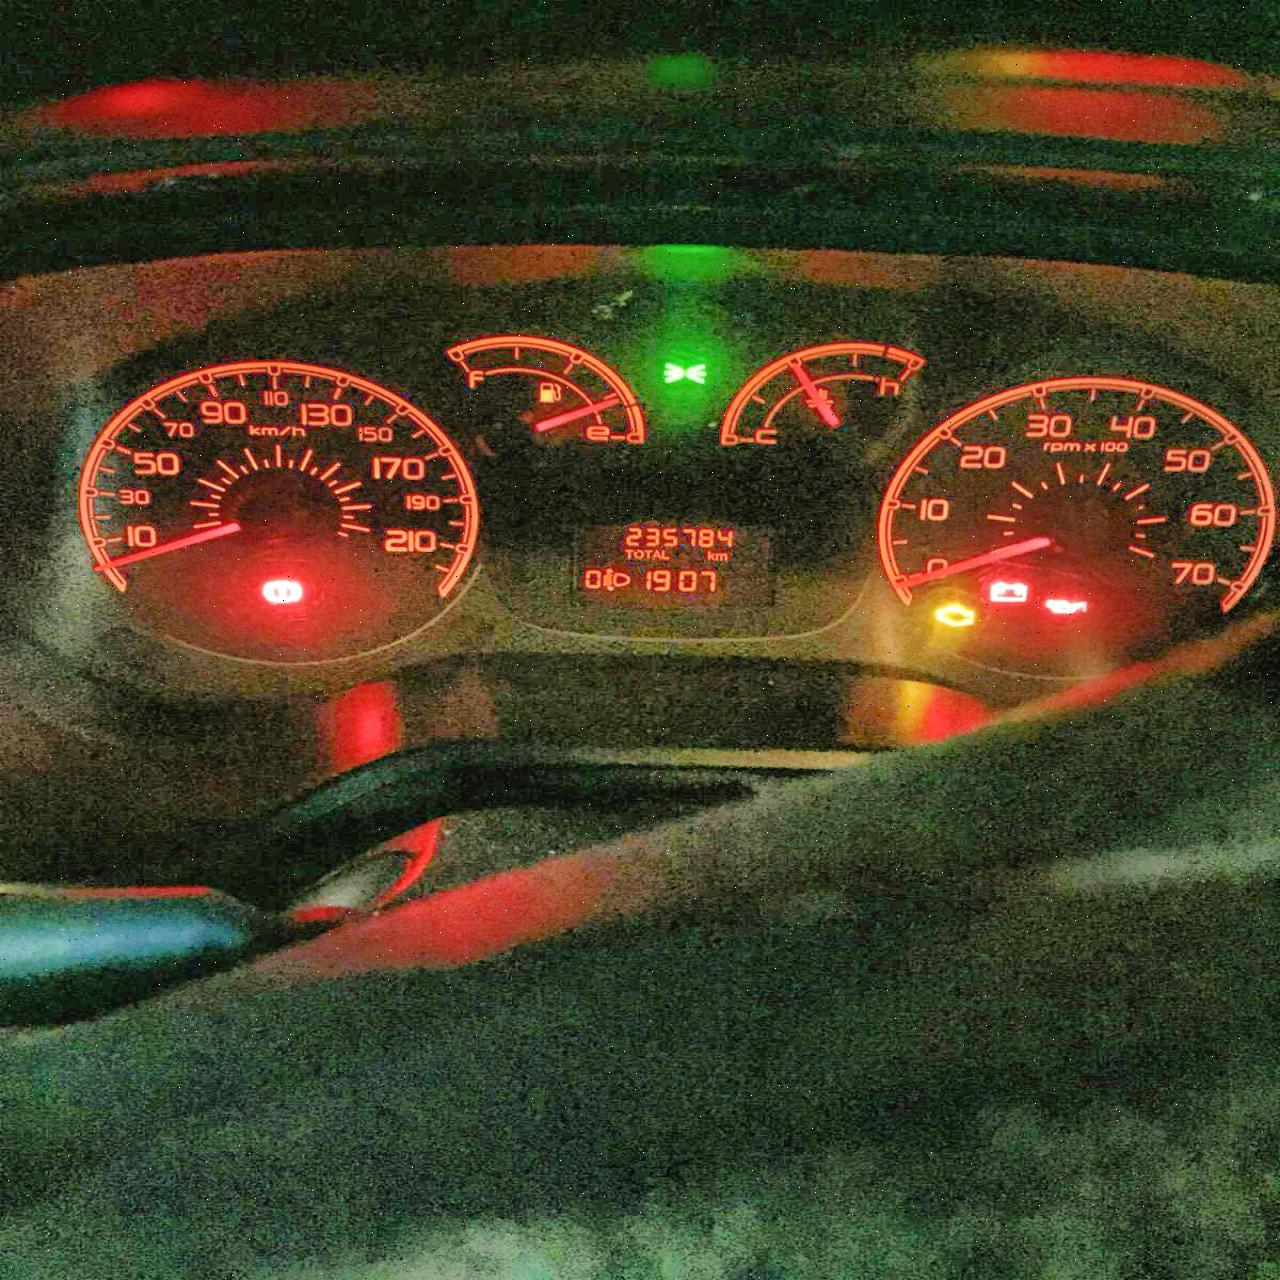0: (678, 568, 695, 592), (585, 568, 599, 588)
1: (645, 570, 651, 591)
2: (625, 527, 641, 546)
3: (644, 526, 658, 545)
4: (716, 529, 733, 547)
5: (662, 525, 676, 545)
7: (700, 568, 717, 592), (681, 527, 694, 546)
8: (697, 527, 713, 547)
9: (653, 568, 670, 591)
X: (715, 551, 728, 560), (633, 549, 644, 558), (661, 549, 669, 559), (652, 549, 660, 559), (624, 547, 632, 558), (644, 549, 652, 558), (707, 550, 714, 560)
odometer: (565, 516, 753, 601)
